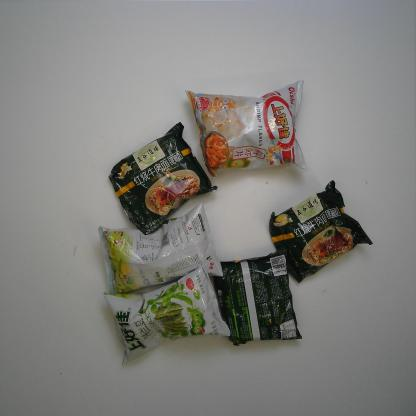Instant Noodles: (107, 120, 220, 238), (267, 176, 373, 286), (208, 249, 304, 348)
Puffed Food: (99, 260, 234, 368), (184, 77, 308, 183), (95, 198, 224, 297)
